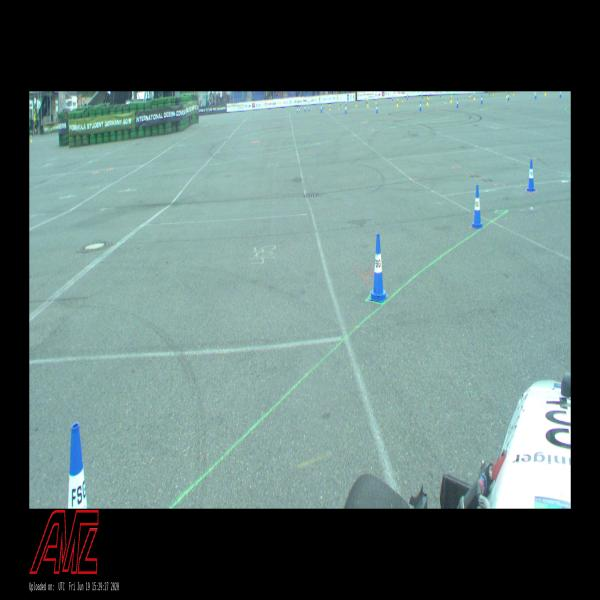blue_cone: (67, 422, 88, 509), (369, 234, 387, 302), (471, 184, 483, 229), (526, 159, 536, 192), (419, 101, 422, 111), (456, 98, 459, 108), (344, 104, 347, 114), (559, 91, 562, 98), (481, 94, 483, 104), (376, 104, 378, 113), (534, 92, 536, 98), (304, 106, 306, 112), (308, 106, 310, 112), (322, 104, 324, 109), (392, 96, 394, 101), (421, 94, 423, 99), (321, 105, 322, 112), (299, 107, 300, 113), (508, 94, 509, 100), (407, 94, 408, 100), (297, 107, 298, 112), (440, 93, 441, 97), (340, 100, 340, 106), (366, 98, 366, 103)
yellow_cone: (473, 92, 476, 100), (426, 97, 429, 105), (396, 98, 398, 107), (450, 94, 452, 102), (367, 99, 369, 107), (338, 103, 340, 110), (506, 91, 508, 98), (469, 91, 471, 97), (428, 94, 430, 100), (30, 136, 32, 142), (544, 91, 546, 96), (492, 92, 494, 97), (375, 100, 377, 104), (346, 102, 347, 109), (329, 104, 330, 110), (330, 104, 331, 110), (402, 97, 403, 102), (356, 102, 357, 107), (513, 92, 514, 95)
